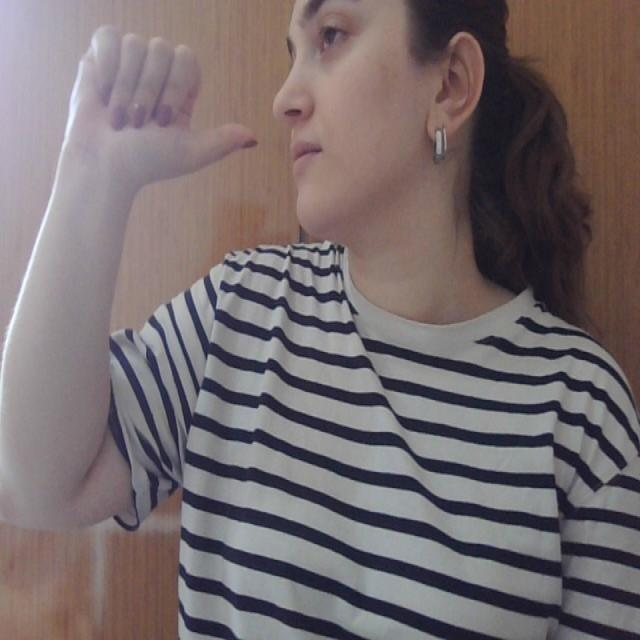icmek: (4, 26, 312, 190)
